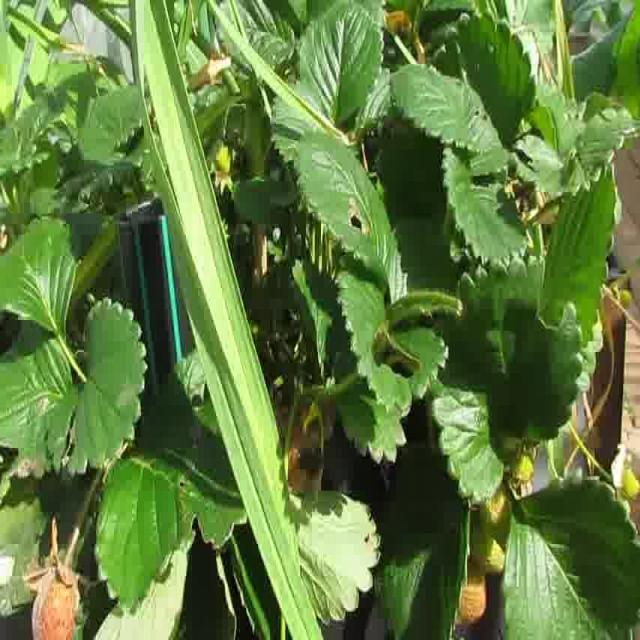Fruta sana: (452, 558, 488, 625), (466, 524, 508, 574), (480, 488, 513, 550), (508, 452, 534, 483), (620, 466, 640, 502), (216, 146, 230, 176), (618, 289, 632, 309)
Moho gris: (30, 564, 81, 640)
